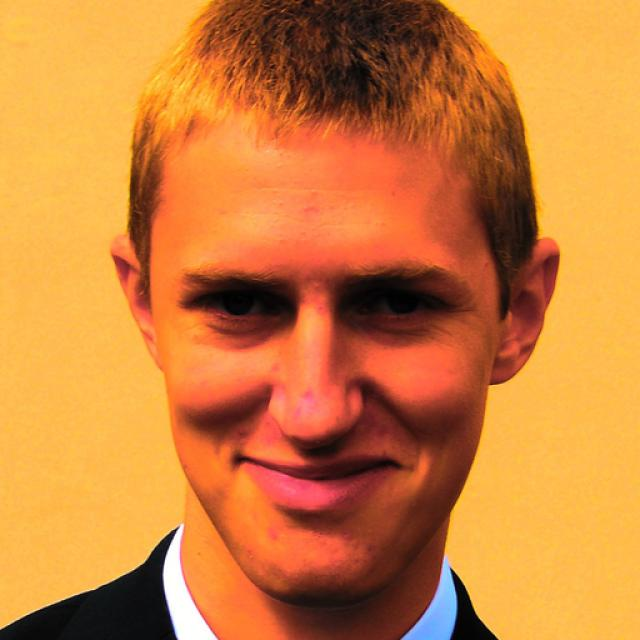Acne: (287, 192, 325, 225), (300, 269, 329, 300), (235, 425, 253, 448)
Spots: (289, 382, 318, 424), (362, 406, 393, 444), (255, 357, 283, 379), (266, 377, 288, 404)
